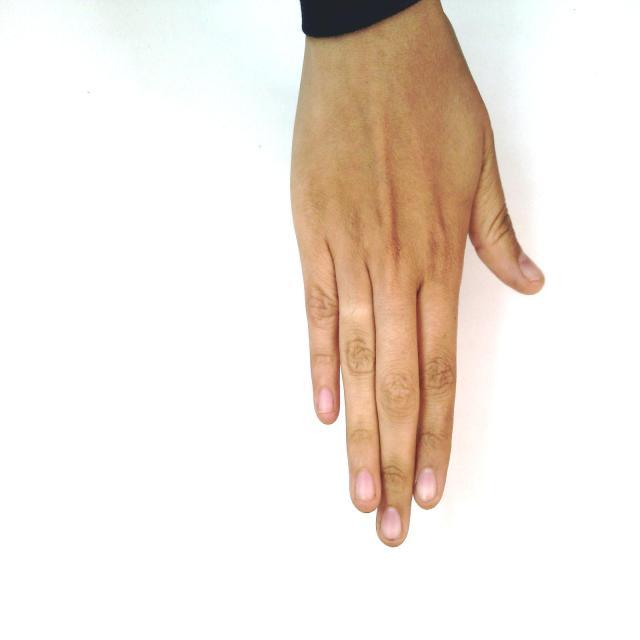Fingernail: (381, 507, 401, 540), (417, 468, 436, 501), (356, 470, 375, 502), (521, 255, 543, 282), (317, 388, 332, 414)
